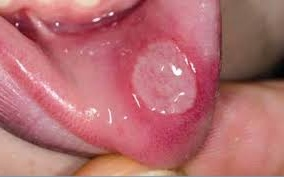Ulcer: (127, 39, 204, 123)
